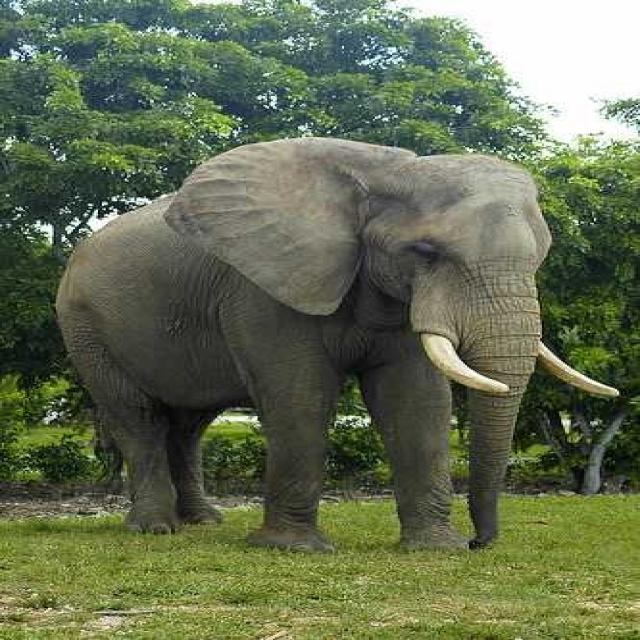Elephant: (52, 136, 619, 554)
